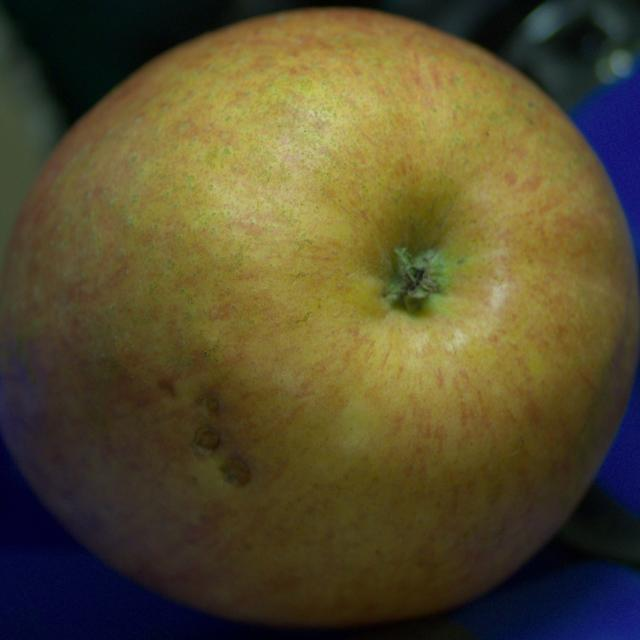apple: (0, 9, 639, 626)
pest: (221, 459, 250, 486), (194, 426, 219, 454), (197, 392, 218, 413)
